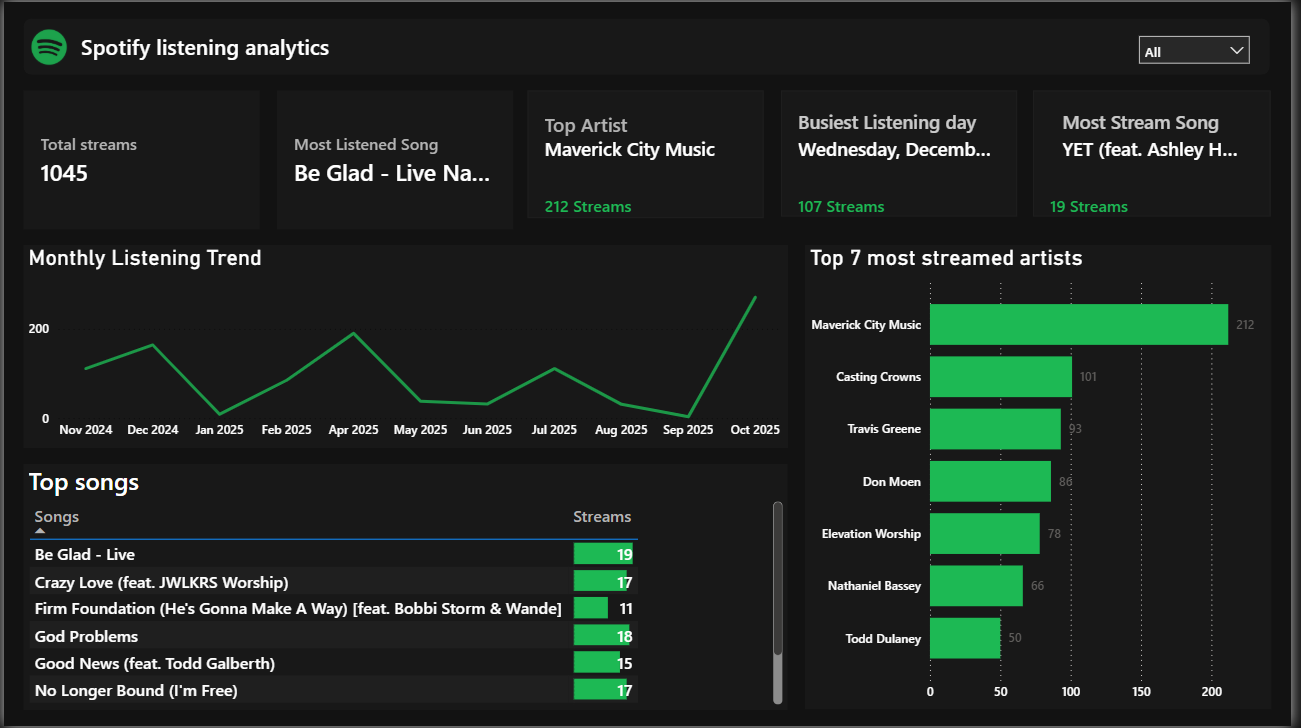

The dashboard page shown, as its layout file describes it:
{"tool":"powerbi","page":{"name":"Page 1","canvas":[1280,720],"ordinal":0},"visuals":[{"type":"shape","box":[20,16,1240,56],"z":0,"group":"g1"},{"type":"shape","box":[20,88,235,138],"z":0,"group":"g2"},{"type":"shape","box":[271,88,235,138],"z":0,"group":"g3"},{"type":"shape","box":[522,88,235,127],"z":0,"group":"g6"},{"type":"shape","box":[773,88,235,125.6],"z":0,"group":"g4"},{"type":"shape","box":[1024,88,236.4,125.6],"z":0,"group":"g5"},{"type":"lineChart","title":" Monthly Listening Trend","fields":{"Category":["Streamevent.Month Name"],"Y":["CountNonNull(Streamevent.track_id)"]},"box":[19.7,242,760.5,202],"z":0},{"type":"image","box":[28,26,36,36],"z":1000,"group":"g1"},{"type":"cardVisual","fields":{"Data":["CountNonNull(Streamevent.track_id)"]},"box":[20,88,235,138],"z":1000,"group":"g2"},{"type":"cardVisual","fields":{"Data":["Streamevent.Most Listened Song"]},"box":[271,88,235,138],"z":1000,"group":"g3"},{"type":"cardVisual","fields":{"Data":["Artist.Streams"]},"box":[522.1,176,235.5,50],"z":1000,"group":"g6"},{"type":"cardVisual","fields":{"Data":["Streamevent.Busiest Listening day Stream"]},"box":[773.1,176,235.5,50],"z":1000,"group":"g4"},{"type":"cardVisual","fields":{"Data":["Track.StreamSong Count"]},"box":[1024.1,176,237,50],"z":1000,"group":"g5"},{"type":"tableEx","title":"Top songs","fields":{"Values":["Track.title","Streamevent.song streams"]},"box":[20,460,760,244],"z":1000},{"type":"group","id":"g1","title":"Group 4","box":[20,16,1240,56],"z":2000},{"type":"textbox","box":[72,24,500,40],"z":2000,"group":"g1"},{"type":"cardVisual","fields":{"Data":["Streamevent.Busiest Listening day"]},"box":[773.1,88.2,235.5,88],"z":2000,"group":"g4"},{"type":"cardVisual","fields":{"Data":["Track.Most Stream Song"]},"box":[1024.1,88.2,237,88],"z":2000,"group":"g5"},{"type":"cardVisual","fields":{"Data":["Artist.Top Artist"]},"box":[521.4,88.8,236.3,88.8],"z":2000,"group":"g6"},{"type":"slicer","fields":{"Values":["Streamevent.Year"]},"box":[1120,24,130,40],"z":3000},{"type":"group","id":"g2","title":"Group 1","box":[20,88,235,138],"z":4000},{"type":"group","id":"g3","title":"Group 5","box":[271,88,235,138],"z":5000},{"type":"clusteredBarChart","title":"Top 7 most streamed artists","fields":{"Category":["Artist.name"],"Y":["Artist.Artist Streams"]},"box":[796.3,242,464,462],"z":6000},{"type":"group","id":"g4","title":"Group 3","box":[773,88,235.6,138],"z":7000},{"type":"group","id":"g5","title":"Group 3","box":[1024,88,237,138],"z":8000},{"type":"group","id":"g6","title":"Group 2","box":[521.4,88,236.3,138],"z":9000}]}

Visuals, with their boxes in screenshot pixels (x1, y1, x2, y2), scaled from the page's 1280x720 canvas onto the 1301x728 screenshot:
shape: BBox(20, 16, 1281, 73)
shape: BBox(20, 89, 259, 229)
shape: BBox(275, 89, 514, 229)
shape: BBox(531, 89, 769, 217)
shape: BBox(786, 89, 1025, 216)
shape: BBox(1041, 89, 1281, 216)
" Monthly Listening Trend" lineChart: BBox(20, 245, 793, 449)
image: BBox(28, 26, 65, 63)
cardVisual - CountNonNull(Streamevent.track_id): BBox(20, 89, 259, 229)
cardVisual - Streamevent.Most Listened Song: BBox(275, 89, 514, 229)
cardVisual - Artist.Streams: BBox(531, 178, 770, 229)
cardVisual - Streamevent.Busiest Listening day Stream: BBox(786, 178, 1025, 229)
cardVisual - Track.StreamSong Count: BBox(1041, 178, 1282, 229)
"Top songs" tableEx: BBox(20, 465, 793, 712)
"Group 4" group: BBox(20, 16, 1281, 73)
textbox: BBox(73, 24, 581, 65)
cardVisual - Streamevent.Busiest Listening day: BBox(786, 89, 1025, 178)
cardVisual - Track.Most Stream Song: BBox(1041, 89, 1282, 178)
cardVisual - Artist.Top Artist: BBox(530, 90, 770, 180)
slicer - Streamevent.Year: BBox(1138, 24, 1271, 65)
"Group 1" group: BBox(20, 89, 259, 229)
"Group 5" group: BBox(275, 89, 514, 229)
"Top 7 most streamed artists" clusteredBarChart: BBox(809, 245, 1281, 712)
"Group 3" group: BBox(786, 89, 1025, 229)
"Group 3" group: BBox(1041, 89, 1282, 229)
"Group 2" group: BBox(530, 89, 770, 229)
